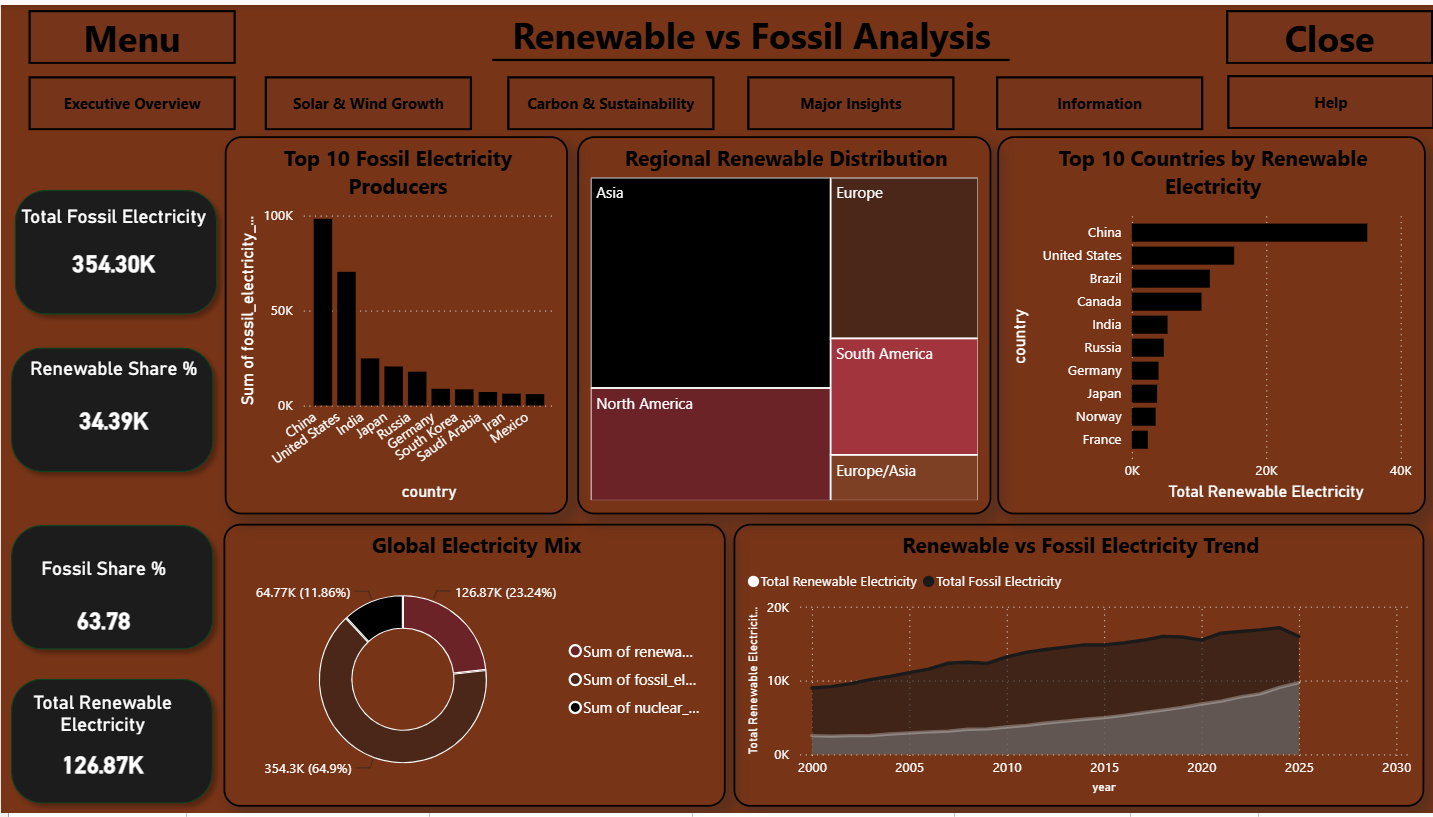

Layout of this report page (visuals, bound fields, positions):
{"tool":"powerbi","page":{"name":"Renewable vs Fossil Analysis","canvas":[1280,720],"ordinal":1},"visuals":[{"type":"textbox","box":[361.5,0,613.1,53.5],"z":0},{"type":"shape","box":[885.5,63.9,184.6,48.3],"z":0,"group":"g1"},{"type":"shape","box":[664.7,63.9,184.6,48.3],"z":1000,"group":"g1"},{"type":"shape","box":[0,591.4,197.6,129],"z":1000},{"type":"shape","box":[437.7,26.1,461.1,46.7],"z":2000},{"type":"shape","box":[450,63.9,184.6,48.3],"z":2000,"group":"g1"},{"type":"shape","box":[234,63.9,184.6,48.3],"z":3000,"group":"g1"},{"type":"clusteredColumnChart","title":"Top 10 Fossil Electricity Producers ","fields":{"Category":["GlobalRenewableEnergy.country"],"Y":["Sum(GlobalRenewableEnergy.fossil_electricity_twh)"]},"box":[199.1,117,305.2,336.6],"z":3000},{"type":"shape","box":[24.1,63.9,184.6,48.3],"z":4000,"group":"g1"},{"type":"donutChart","title":"Global Electricity Mix","fields":{"Y":["Sum(GlobalRenewableEnergy.renewables_electricity_twh)","Sum(GlobalRenewableEnergy.fossil_electricity_twh)","Sum(GlobalRenewableEnergy.nuclear_electricity_twh)"]},"box":[197.9,462.1,447.6,252.1],"z":4000},{"type":"shape","box":[1090.6,4.8,184.6,48.3],"z":5000,"group":"g1"},{"type":"areaChart","title":" Renewable vs Fossil Electricity Trend","fields":{"Category":["GlobalRenewableEnergy.year"],"Y":["GlobalRenewableEnergy.Total Renewable Electricity","GlobalRenewableEnergy.Total Fossil Electricity"]},"box":[652.7,462.1,615.3,252.1],"z":5000},{"type":"shape","box":[1091.8,62.7,184.6,48.3],"z":6000,"group":"g1"},{"type":"card","title":"Total Renewable Electricity","fields":{"Values":["GlobalRenewableEnergy.Total Renewable Electricity"]},"box":[0,610.6,181.1,93.3],"z":6000},{"type":"clusteredBarChart","title":"Top 10 Countries by Renewable Electricity ","fields":{"Category":["GlobalRenewableEnergy.country"],"Y":["GlobalRenewableEnergy.Total Renewable Electricity"]},"box":[886.7,117,381.2,336.6],"z":7000},{"type":"treemap","title":"Regional Renewable Distribution","fields":{"Group":["GlobalRenewableEnergy.Region"],"Values":["Sum(GlobalRenewableEnergy.renewables_electricity_twh)"]},"box":[512.7,117,369.2,336.6],"z":11000},{"type":"shape","box":[0,296.4,198.1,128.7],"z":12000},{"type":"shape","box":[2.9,156.2,198.1,128.7],"z":13000},{"type":"shape","box":[0,454.1,198.1,128.7],"z":14000},{"type":"card","title":"Fossil Share %","fields":{"Values":["Avg(GlobalRenewableEnergy.fossil_share_pct)"]},"box":[1.4,491.6,180.8,94],"z":15000},{"type":"card","title":"Total Fossil Electricity","fields":{"Values":["Sum(GlobalRenewableEnergy.fossil_electricity_twh)"]},"box":[10.1,177.9,180.8,85.3],"z":16000},{"type":"card","title":"Renewable Share %","fields":{"Values":["GlobalRenewableEnergy.Renewable Share %"]},"box":[10.1,313.8,180.8,94],"z":17000},{"type":"shape","title":"menu open 2","box":[24.1,4.8,184.6,48.3],"z":18000},{"type":"group","id":"g1","title":"menu close 2","box":[24.1,4.8,1252.3,107.4],"z":20000}]}

Visuals, with their boxes in screenshot pixels (x1, y1, x2, y2), scaled from the page's 1280x720 canvas onto the 1433x817 screenshot:
textbox: pyautogui.locateOnScreen(405, 0, 1091, 61)
shape: pyautogui.locateOnScreen(991, 73, 1198, 127)
shape: pyautogui.locateOnScreen(744, 73, 951, 127)
shape: pyautogui.locateOnScreen(0, 671, 221, 816)
shape: pyautogui.locateOnScreen(490, 30, 1006, 83)
shape: pyautogui.locateOnScreen(504, 73, 710, 127)
shape: pyautogui.locateOnScreen(262, 73, 469, 127)
"Top 10 Fossil Electricity Producers " clusteredColumnChart: pyautogui.locateOnScreen(223, 133, 565, 515)
shape: pyautogui.locateOnScreen(27, 73, 234, 127)
"Global Electricity Mix" donutChart: pyautogui.locateOnScreen(222, 524, 723, 810)
shape: pyautogui.locateOnScreen(1221, 5, 1428, 60)
" Renewable vs Fossil Electricity Trend" areaChart: pyautogui.locateOnScreen(731, 524, 1420, 810)
shape: pyautogui.locateOnScreen(1222, 71, 1429, 126)
"Total Renewable Electricity" card: pyautogui.locateOnScreen(0, 693, 203, 799)
"Top 10 Countries by Renewable Electricity " clusteredBarChart: pyautogui.locateOnScreen(993, 133, 1419, 515)
"Regional Renewable Distribution" treemap: pyautogui.locateOnScreen(574, 133, 987, 515)
shape: pyautogui.locateOnScreen(0, 336, 222, 482)
shape: pyautogui.locateOnScreen(3, 177, 225, 323)
shape: pyautogui.locateOnScreen(0, 515, 222, 661)
"Fossil Share %" card: pyautogui.locateOnScreen(2, 558, 204, 664)
"Total Fossil Electricity" card: pyautogui.locateOnScreen(11, 202, 214, 299)
"Renewable Share %" card: pyautogui.locateOnScreen(11, 356, 214, 463)
"menu open 2" shape: pyautogui.locateOnScreen(27, 5, 234, 60)
"menu close 2" group: pyautogui.locateOnScreen(27, 5, 1429, 127)
